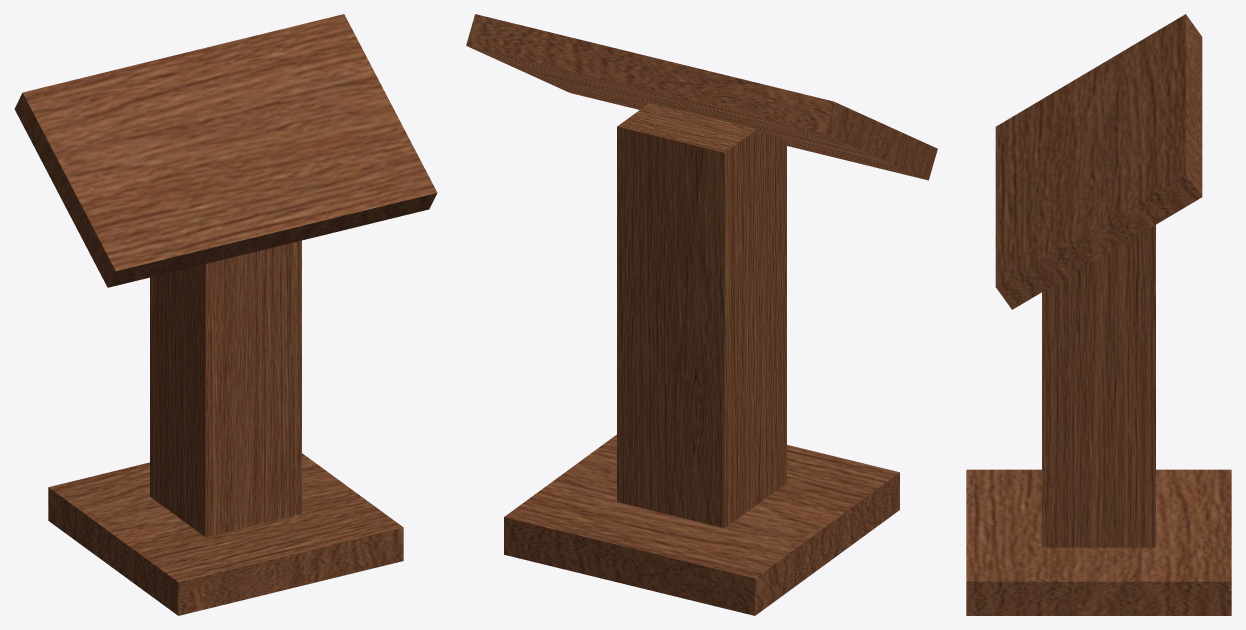
Rendered from Lectern.fbx.
3 views of the same model, side by side, from view 1: azimuth 30°, elevation 25°; view 2: azimuth 150°, elevation 25°; view 3: azimuth 270°, elevation 25° (orthographic). The views are drawn at different scales.
Parts seen in each view (by area): view 1: Cube.006; view 2: Cube.006; view 3: Cube.006.
Boxes of the visible parts, bbox=[...] form: Cube.006: bbox=[14, 14, 437, 615]; Cube.006: bbox=[466, 14, 937, 615]; Cube.006: bbox=[966, 14, 1231, 615].
Size of the model in its own units: 70 by 100 by 136.
Materials: 1 (1 with a texture image).
